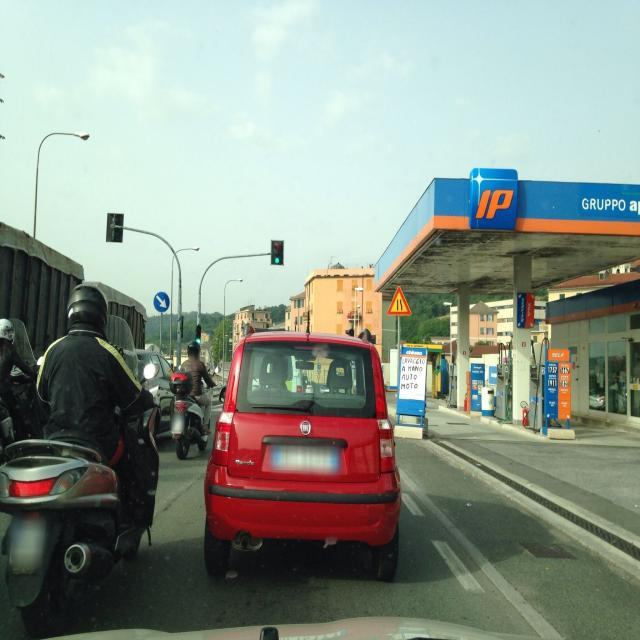bike: (2, 306, 158, 634), (172, 376, 216, 460)
car: (203, 327, 401, 583), (120, 349, 176, 433)
